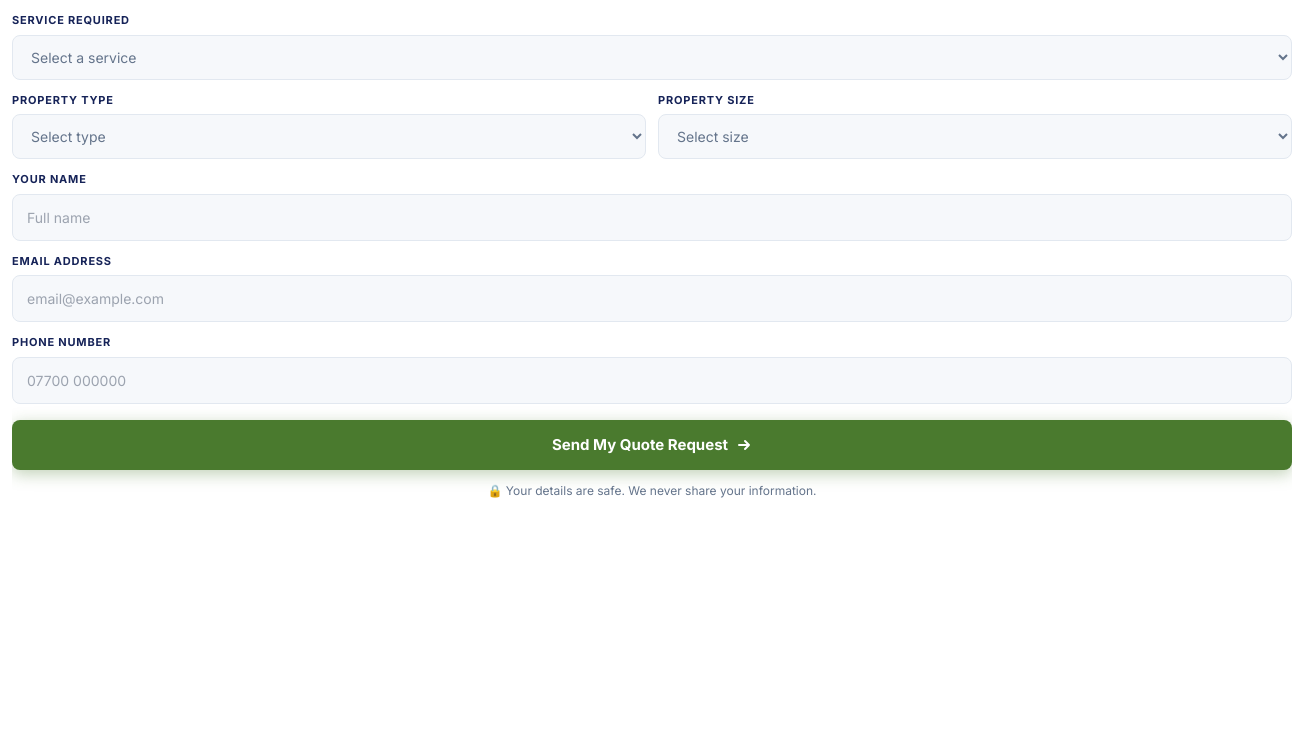
Scenario: shows validation errors on empty submit
The width and height of the screenshot is (1304, 732).
Click the button "Send My Quote Request" at (652, 445), box x1=12 y1=420 x2=1292 y2=470
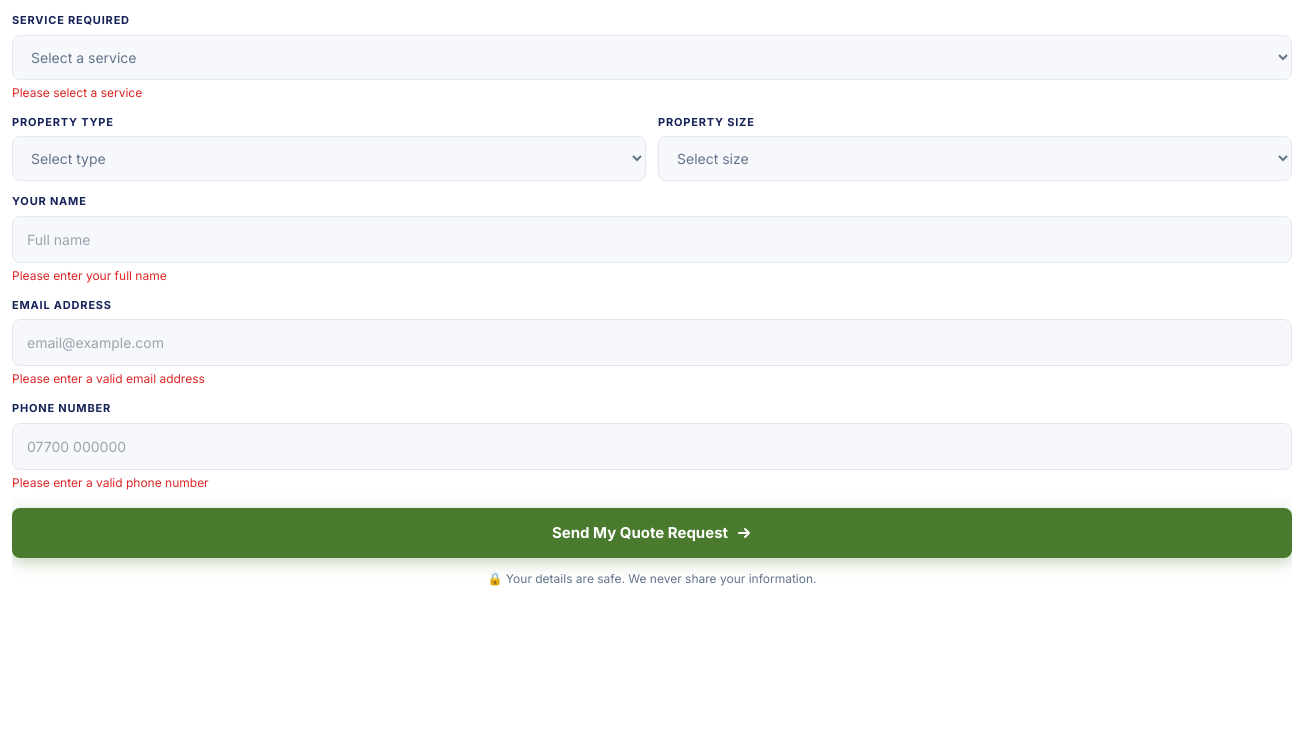
Result: the text "Please select a service" is shown at x1=12 y1=84 x2=142 y2=100
Result: the text "Please enter your full name" is shown at x1=12 y1=268 x2=167 y2=282
